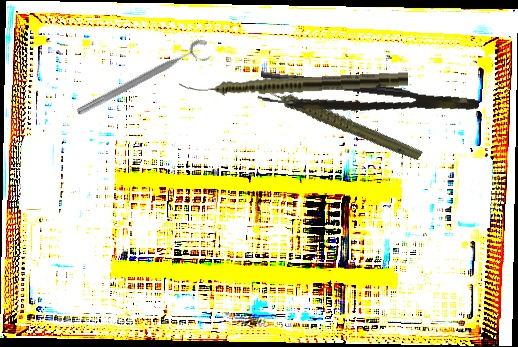Fixation Ring: (74, 35, 216, 127)
Handpiece: (259, 49, 424, 191), (178, 69, 409, 99)
Tissue Forceps: (257, 70, 480, 130)
